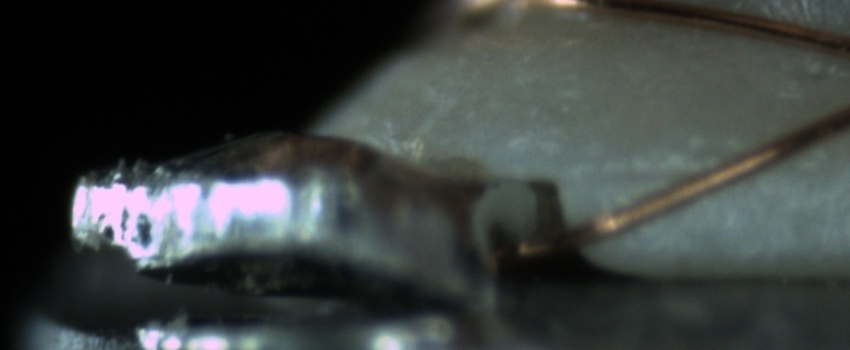DL: (573, 135, 829, 202)
